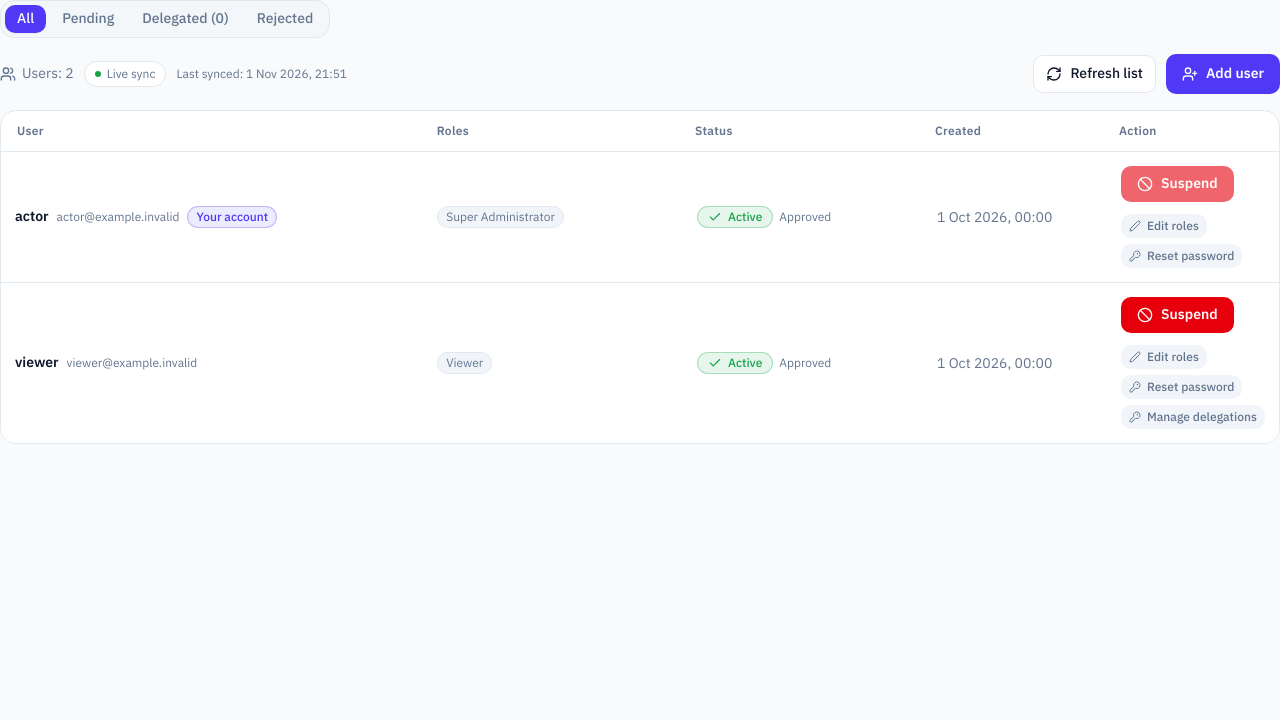
Scenario: UsersManagement — Edit Roles › opens the role dialog when the Edit Roles button is clicked
Click the button with aria-label "Edit user roles" at (1164, 226), box [1121,214,1207,238]
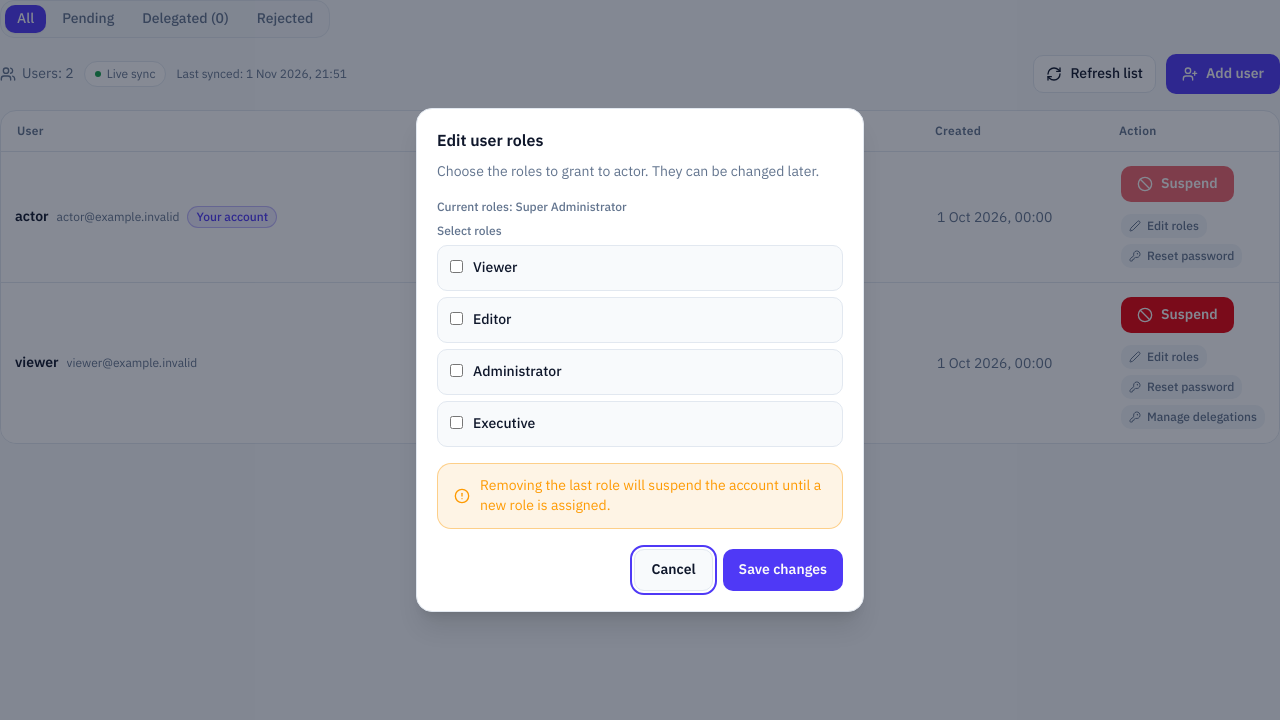
Expected: the dialog "Edit user roles" is shown, [416,108,864,612]
